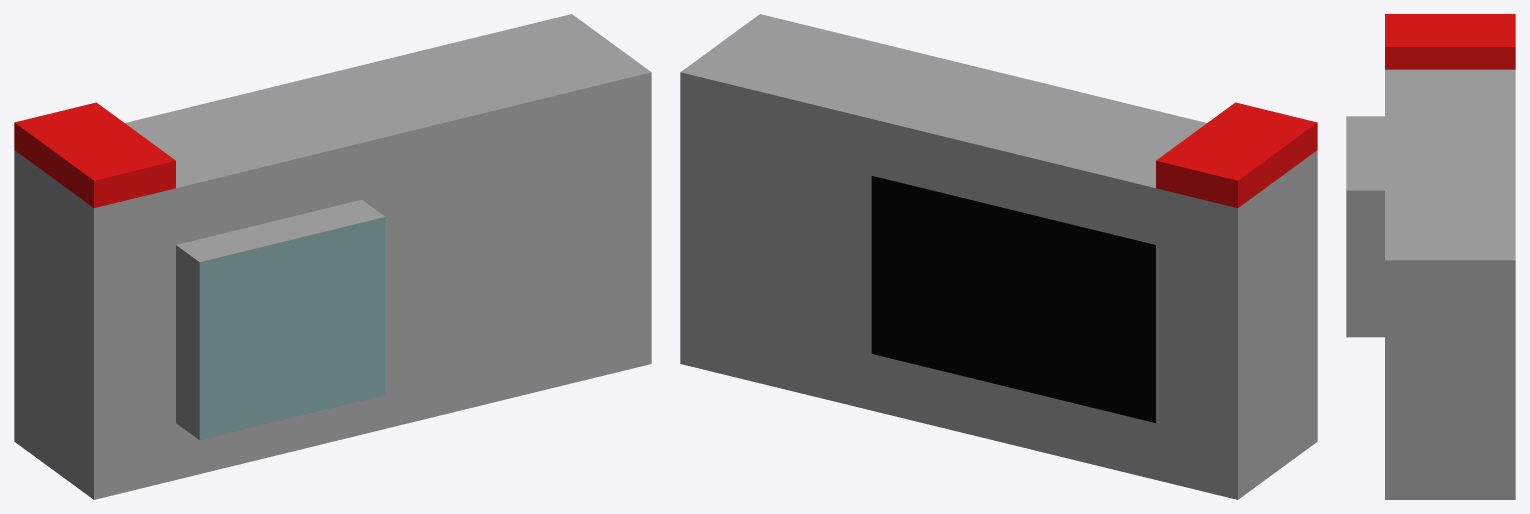
File: camera.fbx
The picture shows the model from 3 angles, left to right: view 1: azimuth 30°, elevation 25°; view 2: azimuth 150°, elevation 25°; view 3: azimuth 270°, elevation 25°; orthographic projection. The views are drawn at different scales.
Parts seen in each view (by area): view 1: pCube1; view 2: pCube1; view 3: pCube1.
Boxes of the visible parts, left/top/right/bottom form: pCube1: left=14, top=14, right=651, bottom=499; pCube1: left=680, top=14, right=1317, bottom=499; pCube1: left=1346, top=14, right=1515, bottom=499.
Size of the model in its own units: 2.5 by 1.37 by 0.8008.
1 material, 1 textured.
